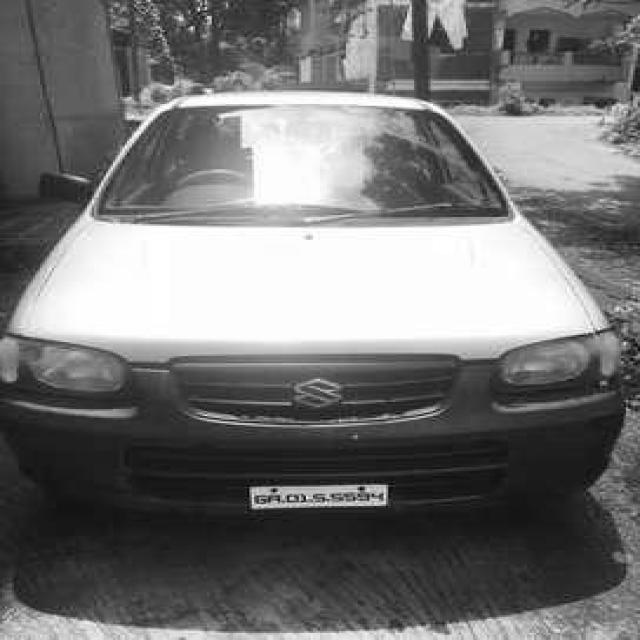car: (0, 86, 633, 536)
license-plate: (247, 481, 391, 508)
